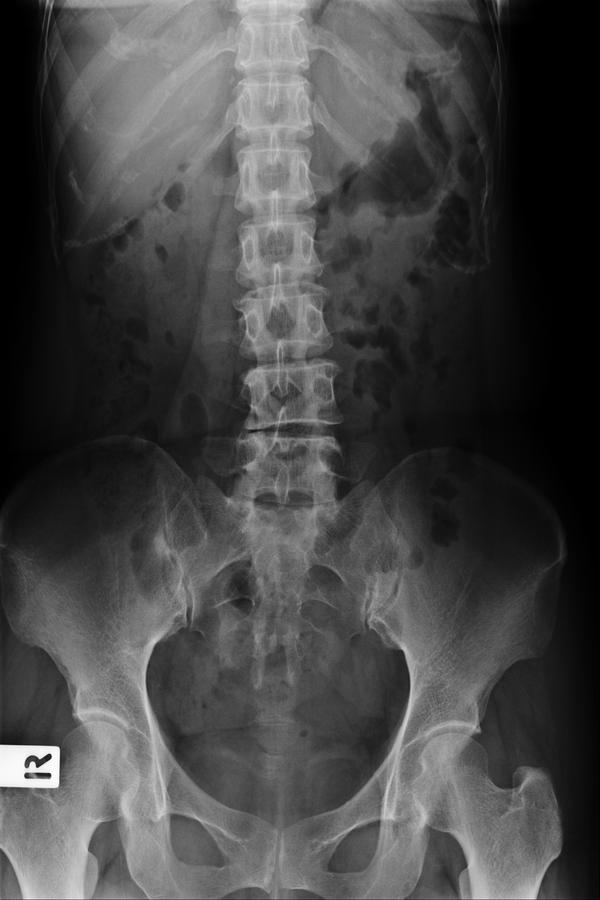lumbar scoliosis: (223, 10, 339, 521)
